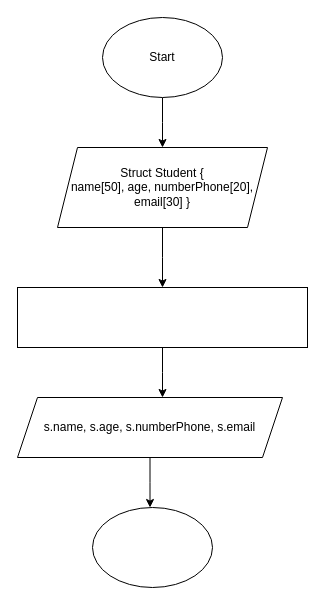
The diagram is 325 pixels wide and 605 high, and some of its shapes have lost their labels. Each missing label, with the centre of its shape:
"Nguyen Van A", 18, 87592650, kgwygk@gmail.com: point 162,317
END: point 152,547
